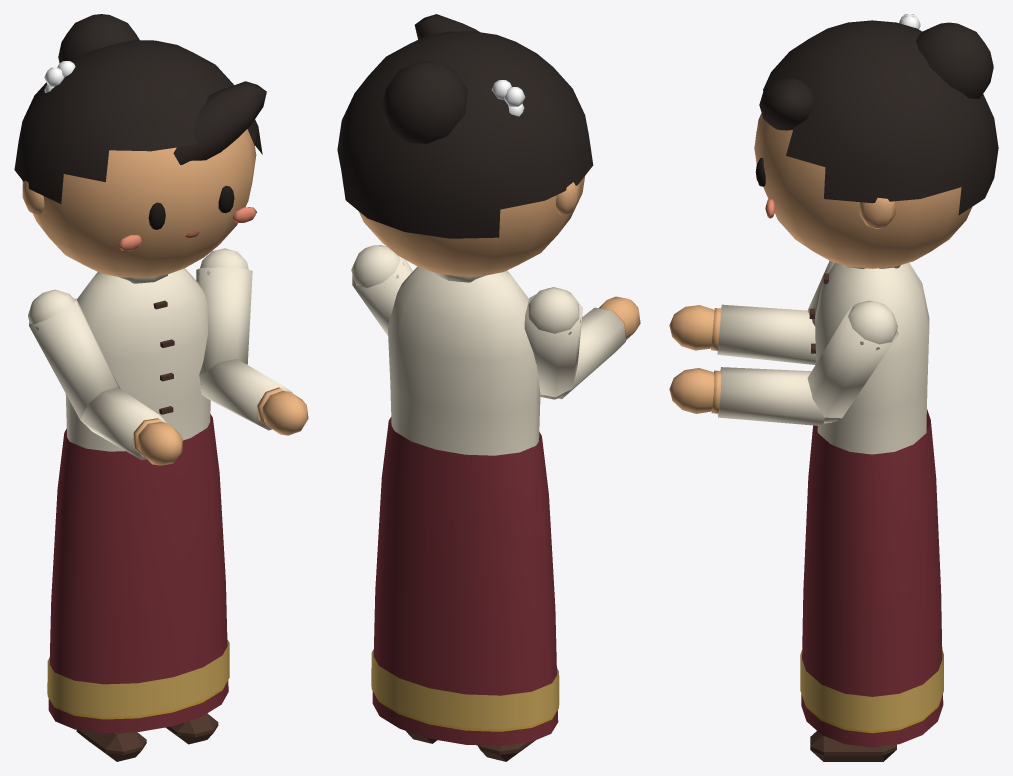
Rendered from north_lanna_woman.glb.
3 renders of one model, left to right at view 1: azimuth 30°, elevation 25°; view 2: azimuth 150°, elevation 25°; view 3: azimuth 270°, elevation 25°, orthographic. The views are drawn at different scales.
Visible parts, largest first — view 1: body, head, arm_R, arm_L, forearm_L, forearm_R, shin_R, shin_L; view 2: body, head, arm_R, forearm_R, arm_L, shin_R; view 3: body, head, forearm_L, forearm_R, arm_L, shin_L.
Part boxes in pixels (<box>): body: <box>47,268,229,733</box>; head: <box>14,14,266,277</box>; arm_R: <box>28,289,120,419</box>; arm_L: <box>196,248,252,398</box>; forearm_L: <box>199,359,308,435</box>; forearm_R: <box>80,387,182,465</box>; shin_R: <box>76,730,146,761</box>; shin_L: <box>165,713,218,744</box>; body: <box>371,266,559,745</box>; head: <box>337,14,593,276</box>; arm_R: <box>524,287,582,399</box>; forearm_R: <box>540,296,640,399</box>; arm_L: <box>351,245,412,335</box>; shin_R: <box>477,740,535,761</box>; body: <box>800,262,943,747</box>; head: <box>754,14,998,268</box>; forearm_L: <box>669,367,832,426</box>; forearm_R: <box>669,304,816,364</box>; arm_L: <box>807,300,898,423</box>; shin_L: <box>810,731,896,761</box>.
Bounding box in the file's own units: 0.4913 × 1.47 × 0.6155.
